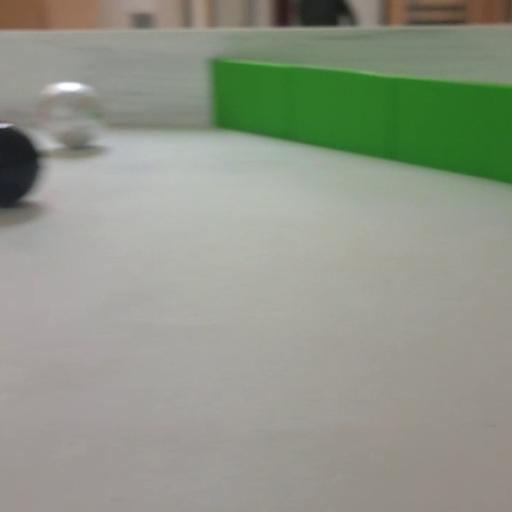alive: (34, 79, 108, 156)
dead: (0, 122, 42, 206)
